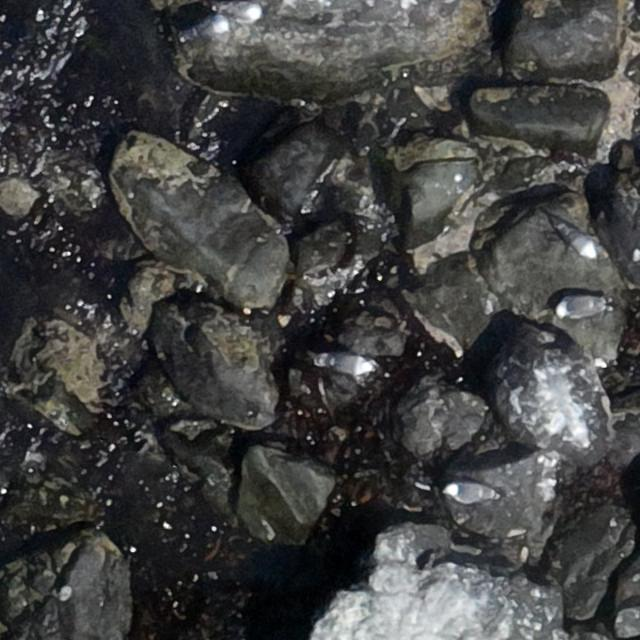umineko: (559, 295, 603, 317), (326, 355, 372, 376), (448, 481, 488, 501), (566, 228, 594, 256), (225, 3, 257, 19)
